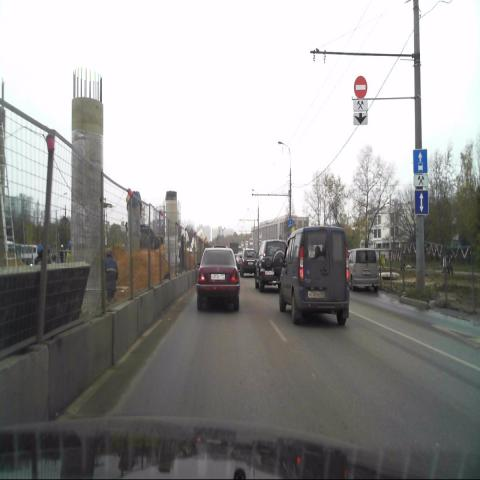5_14: (413, 149, 427, 174)
5_8: (415, 190, 428, 214)
